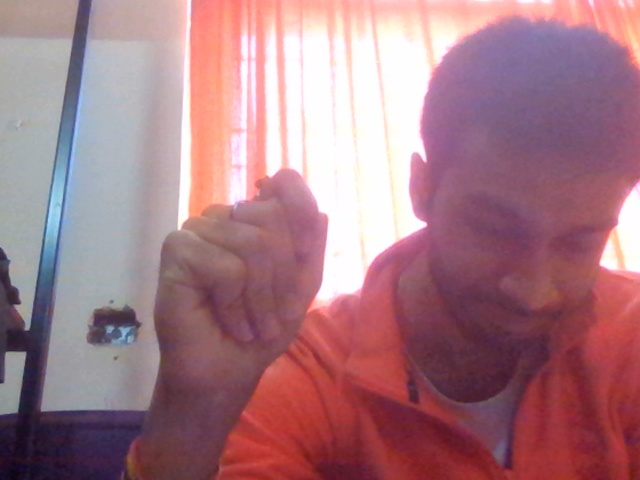T: (121, 161, 367, 454)
